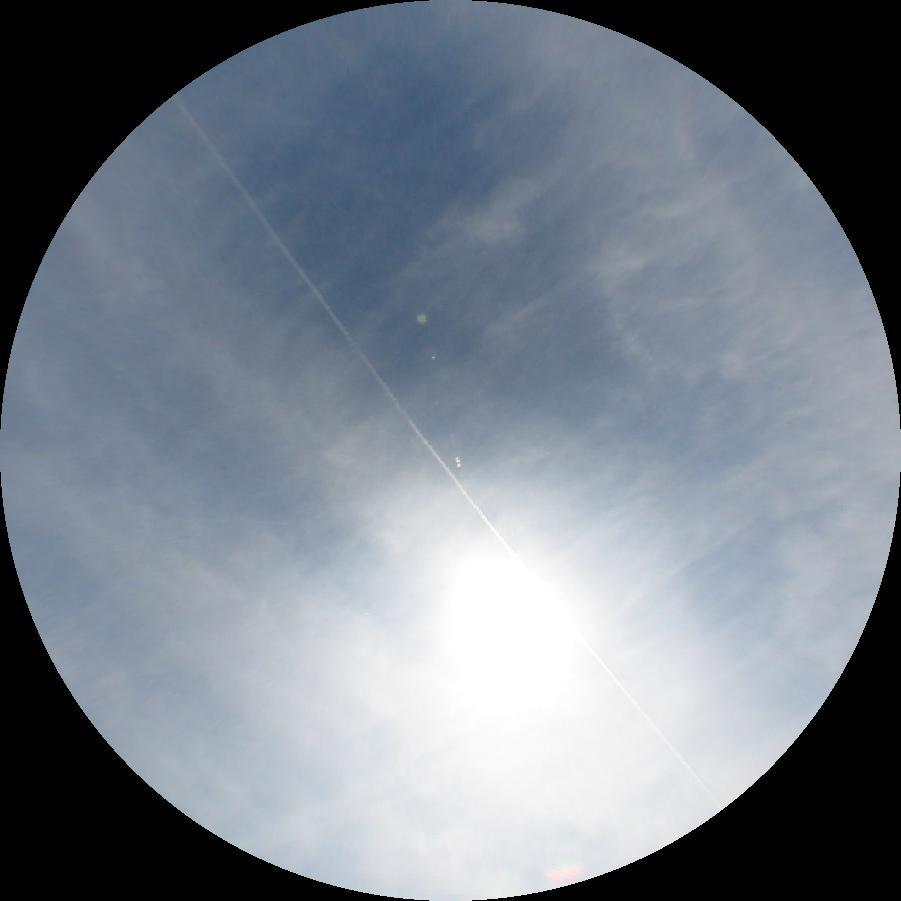contrail old: (163, 93, 724, 816)
sun: (402, 530, 597, 738)
